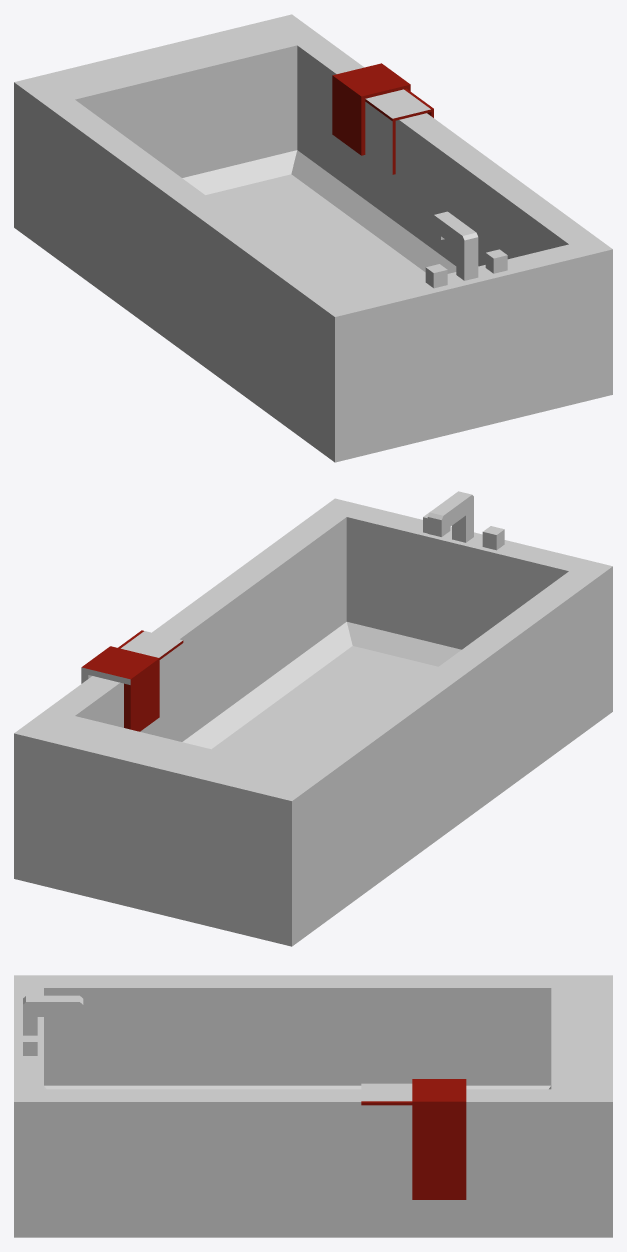
File: SM_Bathtub_01.fbx
3 views of the same model, one above another, from view 1: azimuth 30°, elevation 25°; view 2: azimuth 150°, elevation 25°; view 3: azimuth 270°, elevation 25° (orthographic). The views are drawn at different scales.
Visible parts, largest first — view 1: SM_Bathtub_01; view 2: SM_Bathtub_01; view 3: SM_Bathtub_01.
Boxes of the visible parts, box(x1,y1,x2,y2) form: SM_Bathtub_01: box(14, 14, 612, 462); SM_Bathtub_01: box(14, 491, 612, 946); SM_Bathtub_01: box(14, 975, 612, 1237).
Size of the model in its own units: 40.96 by 25.59 by 78.74.
